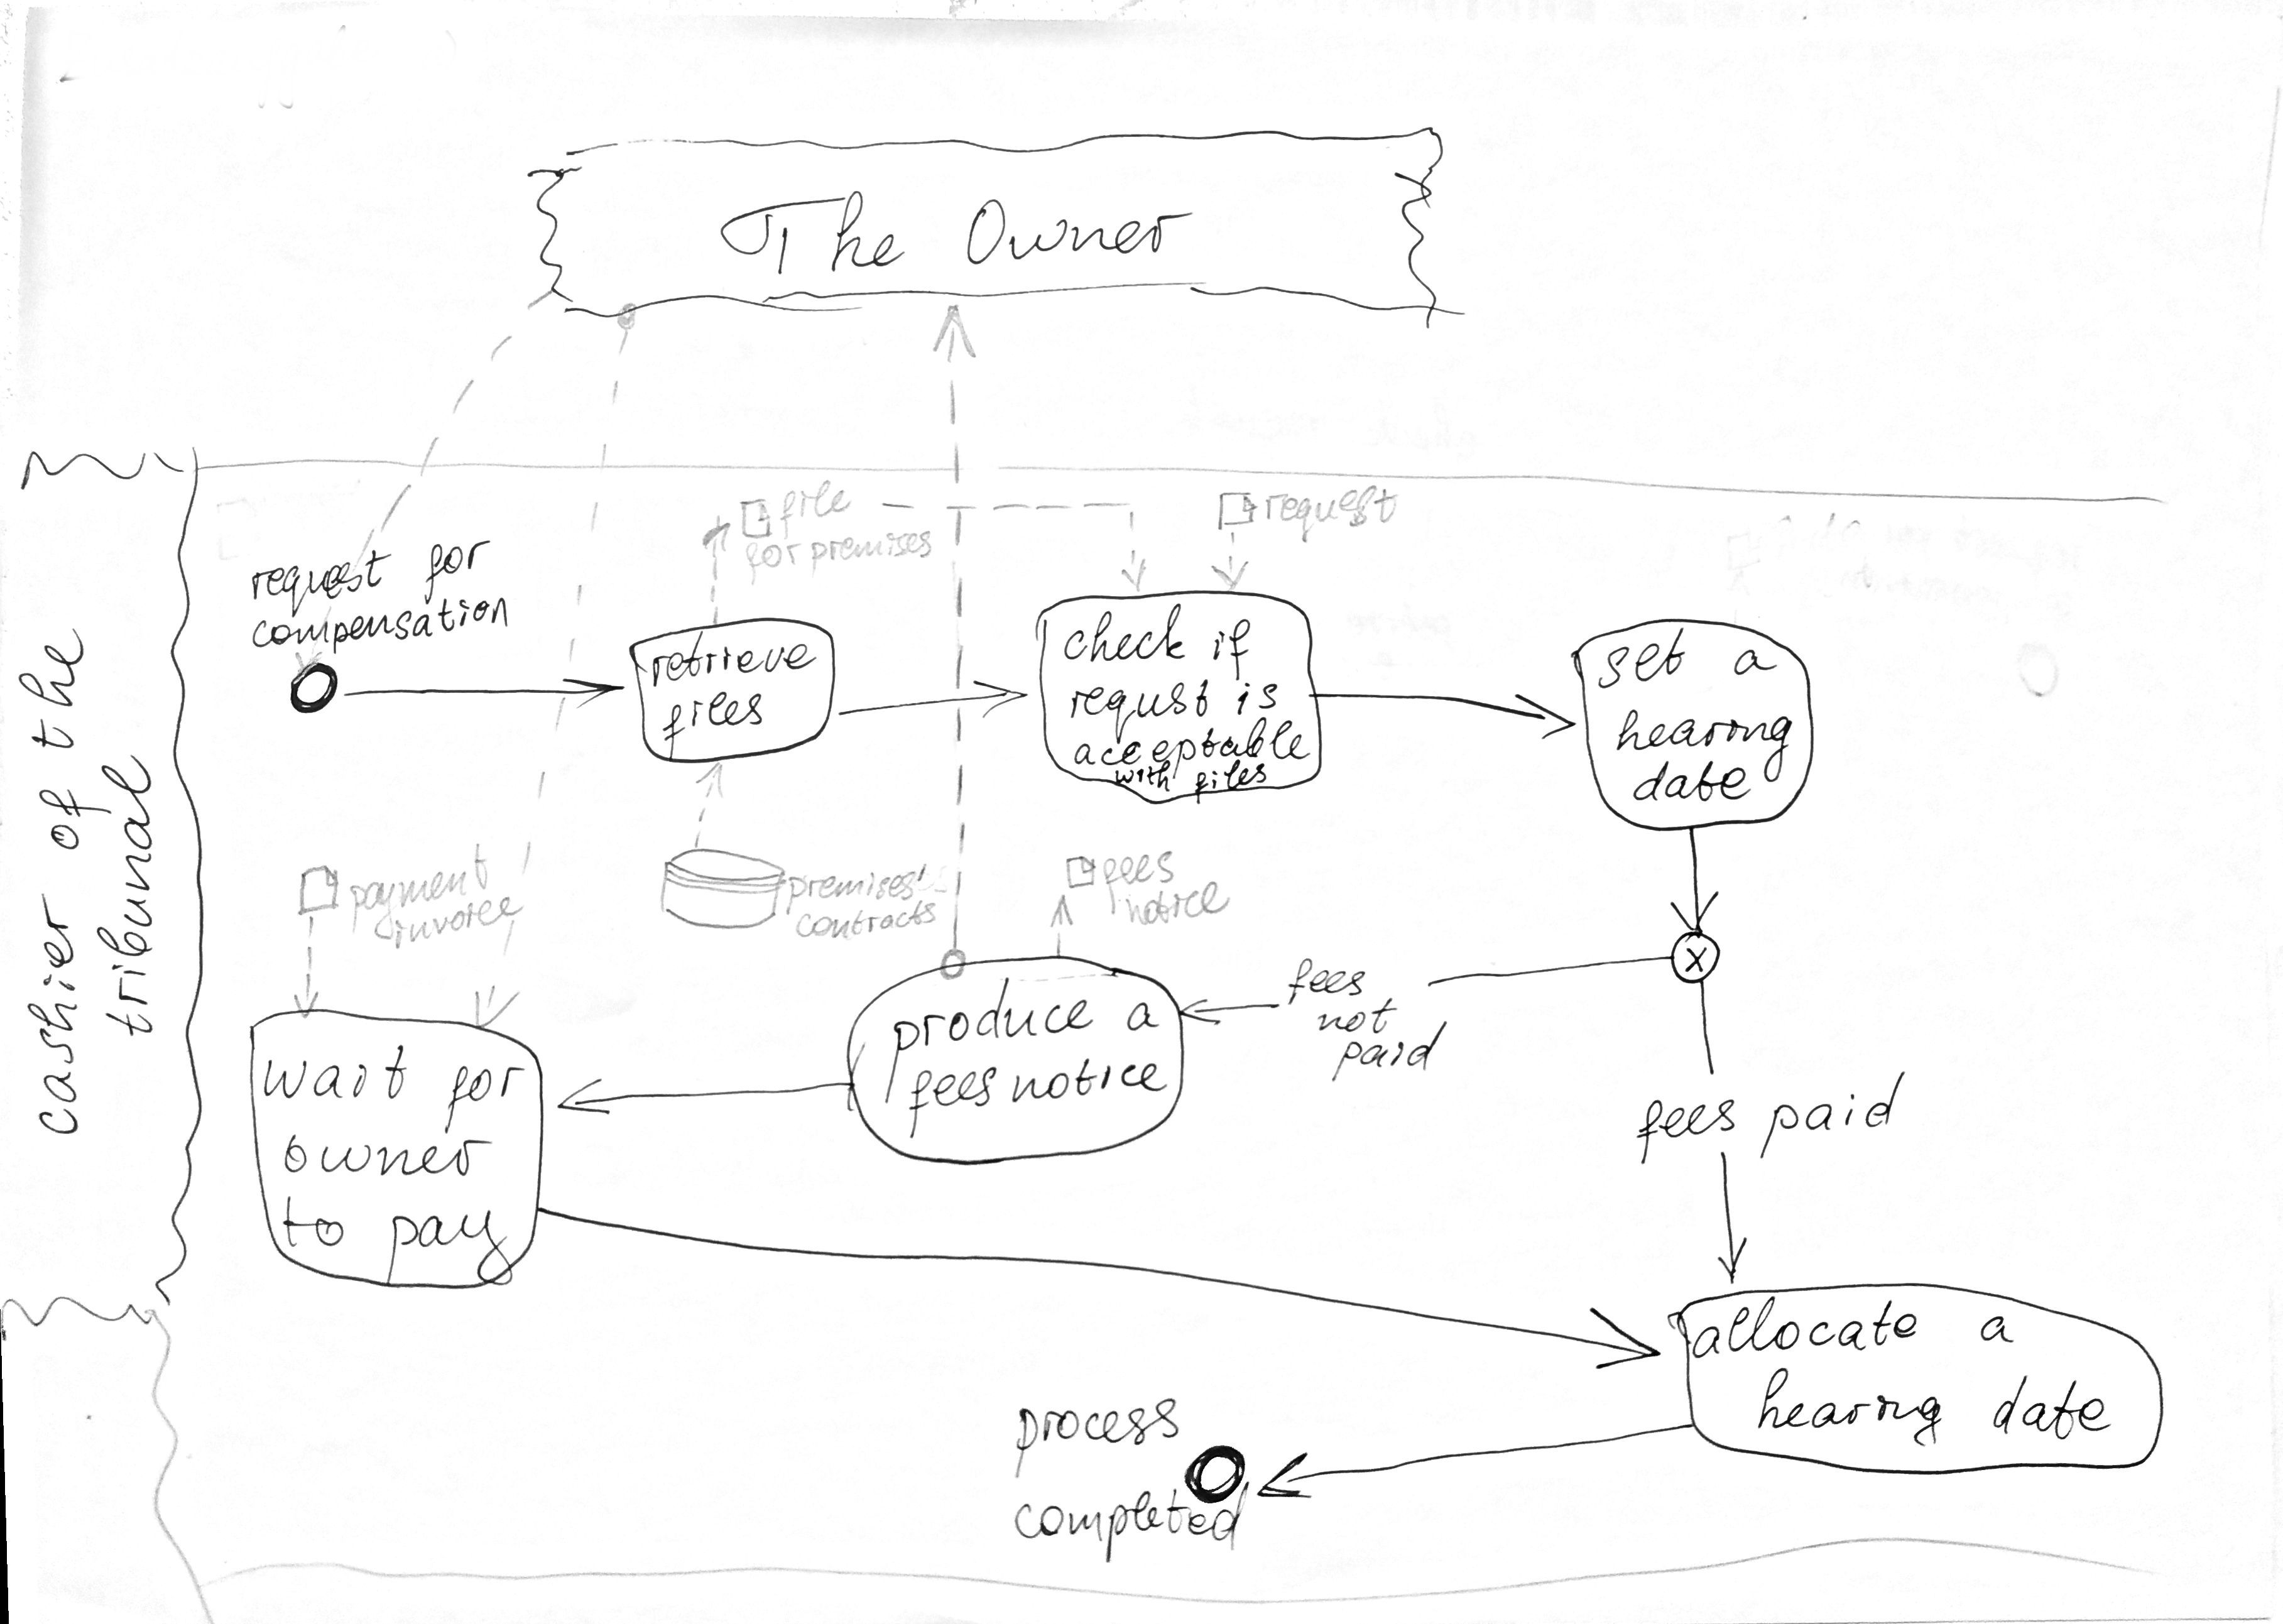Owner: (958, 186, 1200, 276)
The: (714, 185, 910, 281)
a: (1729, 638, 1784, 685), (1121, 995, 1163, 1039), (1974, 1309, 2019, 1348)
acceptable: (1069, 712, 1316, 784)
allocate: (1687, 1290, 1924, 1364)
cashier: (25, 886, 84, 1142)
check: (1058, 598, 1190, 670)
compensation: (246, 589, 513, 659)
completed: (1009, 1478, 1253, 1570)
contracts: (791, 896, 940, 944)
date: (1988, 1371, 2118, 1448), (1629, 754, 1758, 807)
fees: (1631, 1093, 1742, 1171), (905, 1062, 1004, 1142), (1098, 845, 1179, 919), (1283, 954, 1371, 1009)
file: (775, 476, 856, 545)
files: (656, 687, 770, 765), (1190, 754, 1271, 808)
for: (441, 1062, 529, 1139), (420, 531, 496, 608), (742, 538, 807, 589)
hearing: (1752, 1362, 1947, 1450), (1612, 705, 1796, 786)
if: (1207, 617, 1255, 685)
invorce: (390, 891, 527, 954)
is: (1230, 677, 1285, 721)
not: (1311, 995, 1401, 1039)
notice: (1007, 1051, 1172, 1109), (1121, 877, 1236, 930)
of: (33, 784, 118, 854)
owner: (278, 1132, 499, 1181)
paid: (1754, 1065, 1910, 1165), (1327, 1018, 1452, 1086)
pay: (381, 1204, 517, 1292)
payment: (346, 838, 494, 944)
premises: (782, 859, 930, 919), (805, 524, 939, 582)
process: (1012, 1396, 1183, 1483)
produce: (877, 974, 1098, 1109)
request: (244, 543, 395, 622), (1260, 482, 1404, 547)
requst: (1067, 673, 1214, 749)
retrieve: (649, 626, 824, 691)
set: (1592, 622, 1692, 694)
the: (14, 624, 90, 756)
to: (278, 1192, 350, 1255)
tribunal: (90, 747, 160, 1044)
wait: (258, 1040, 411, 1106)
with: (1111, 758, 1174, 796)
